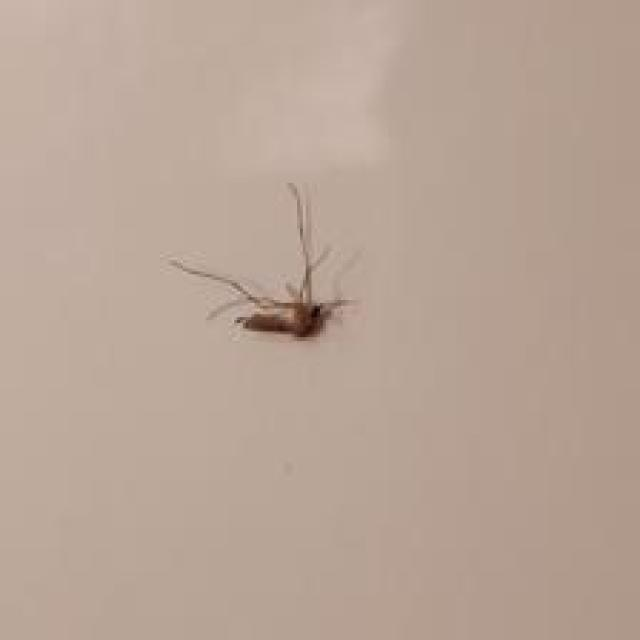Culex: (169, 180, 360, 343)
